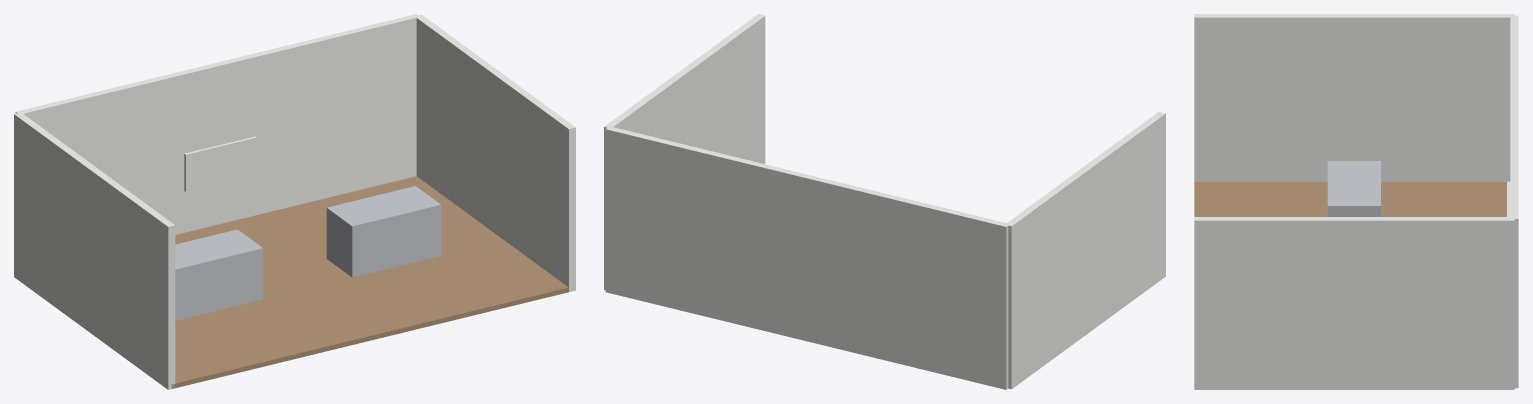
File: museum_exhibit_room.glb
3 renders of one model, left to right at view 1: azimuth 30°, elevation 25°; view 2: azimuth 150°, elevation 25°; view 3: azimuth 270°, elevation 25°, orthographic. The views are drawn at different scales.
Visible parts, largest first — view 1: back, floor, left, right, case2, case, label; view 2: back, left, right; view 3: right, left, floor, case, back.
Boxes of the visible parts, <box> form: back: <box>15,14,419,234</box>; floor: <box>171,176,568,388</box>; left: <box>14,113,175,389</box>; right: <box>415,14,575,291</box>; case2: <box>326,186,441,277</box>; case: <box>175,229,263,320</box>; label: <box>184,136,256,191</box>; back: <box>605,126,1009,389</box>; left: <box>1005,112,1165,389</box>; right: <box>604,14,765,290</box>; right: <box>1194,217,1514,389</box>; left: <box>1194,14,1514,181</box>; floor: <box>1194,182,1506,216</box>; case: <box>1327,161,1380,216</box>; back: <box>1510,15,1518,388</box>.
Size of the model in its own units: 9.16 by 3.5 by 6.08.
